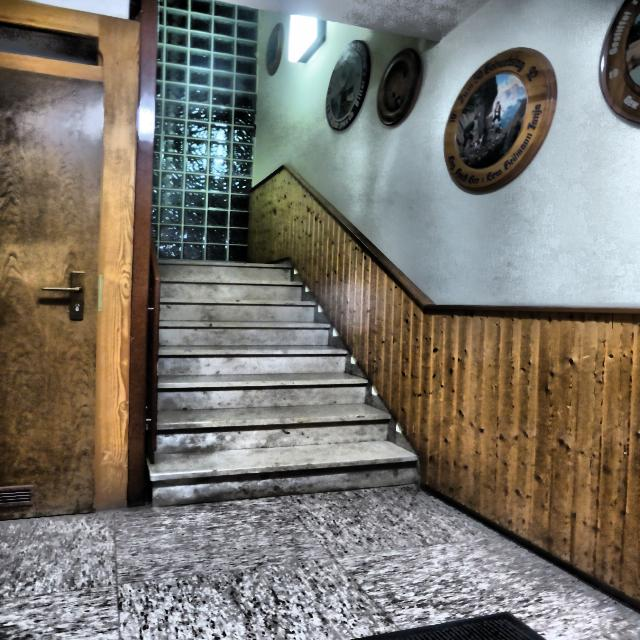escada: (141, 258, 423, 506)
